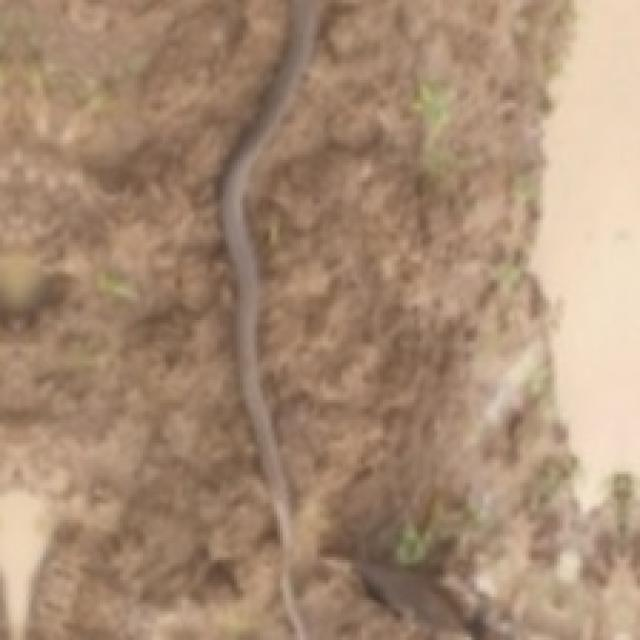reddish rat snake: (246, 0, 574, 637), (221, 0, 320, 639)
